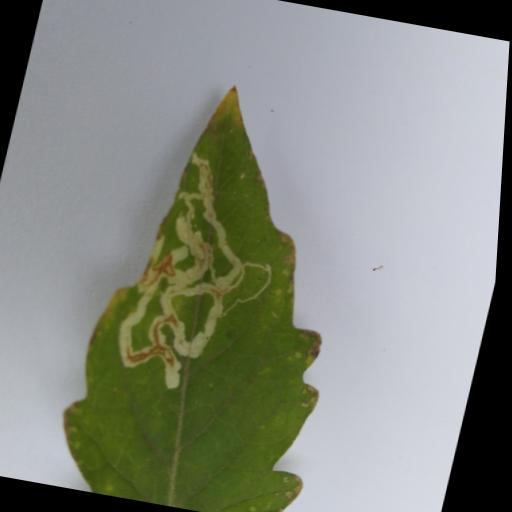Leaf_Miner: (45, 69, 393, 512)
